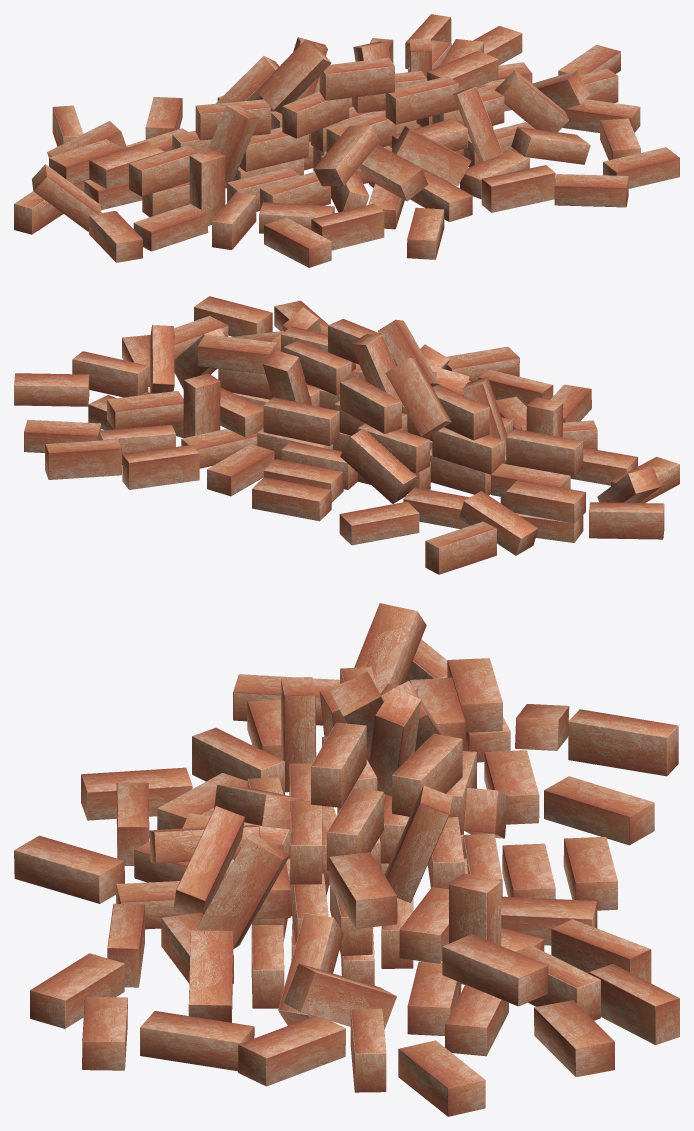
Rendered from monton ladrillos.FBX.
The picture shows the model from 3 angles, top to bottom: view 1: azimuth 30°, elevation 25°; view 2: azimuth 150°, elevation 25°; view 3: azimuth 270°, elevation 25°; orthographic projection. The views are drawn at different scales.
Visible parts, largest first — view 1: Box120, Box126, Box143, Box100, Box128, Box121, Box130, Box099, Box137, Box089, Box112, Box083 (+51 smaller); view 2: Box094, Box131, Box089, Box139, Box084, Box098, Box124, Box140, Box132, Box116, Box080, Box136 (+49 smaller); view 3: Box124, Box132, Box115, Box104, Box117, Box108, Box144, Box139, Box141, Box128, Box133, Box137 (+57 smaller).
Boxes of the visible parts, box(x1,y1,x2,y2) form: Box120: box(481, 165, 555, 212); Box126: box(319, 57, 394, 100); Box143: box(256, 39, 331, 113); Box100: box(385, 76, 458, 124); Box128: box(554, 174, 628, 207); Box121: box(313, 125, 379, 186); Box130: box(311, 204, 384, 250); Box099: box(495, 70, 568, 132); Box137: box(391, 126, 471, 186); Box089: box(129, 145, 198, 196); Box112: box(133, 204, 208, 251); Box083: box(189, 148, 225, 225); Box094: box(340, 428, 416, 503); Box131: box(122, 444, 199, 489); Box089: box(506, 429, 583, 476); Box139: box(45, 439, 121, 479); Box084: box(263, 397, 339, 445); Box098: box(589, 502, 664, 539); Box124: box(425, 521, 496, 574); Box140: box(385, 358, 451, 437); Box132: box(339, 501, 419, 545); Box116: box(252, 477, 331, 521); Box080: box(506, 480, 585, 523); Box136: box(72, 351, 148, 397); Box124: box(568, 709, 678, 776); Box132: box(544, 776, 654, 845); Box115: box(14, 835, 124, 903); Box104: box(238, 1016, 345, 1086); Box117: box(442, 934, 548, 1006); Box108: box(140, 1011, 254, 1071); Box144: box(196, 833, 289, 948); Box139: box(588, 964, 679, 1044); Box141: box(398, 1040, 485, 1116); Box128: box(30, 953, 124, 1028); Box133: box(534, 1000, 614, 1076); Box137: box(173, 806, 244, 914).
Size of the model in its own units: 236 by 49.38 by 149.
